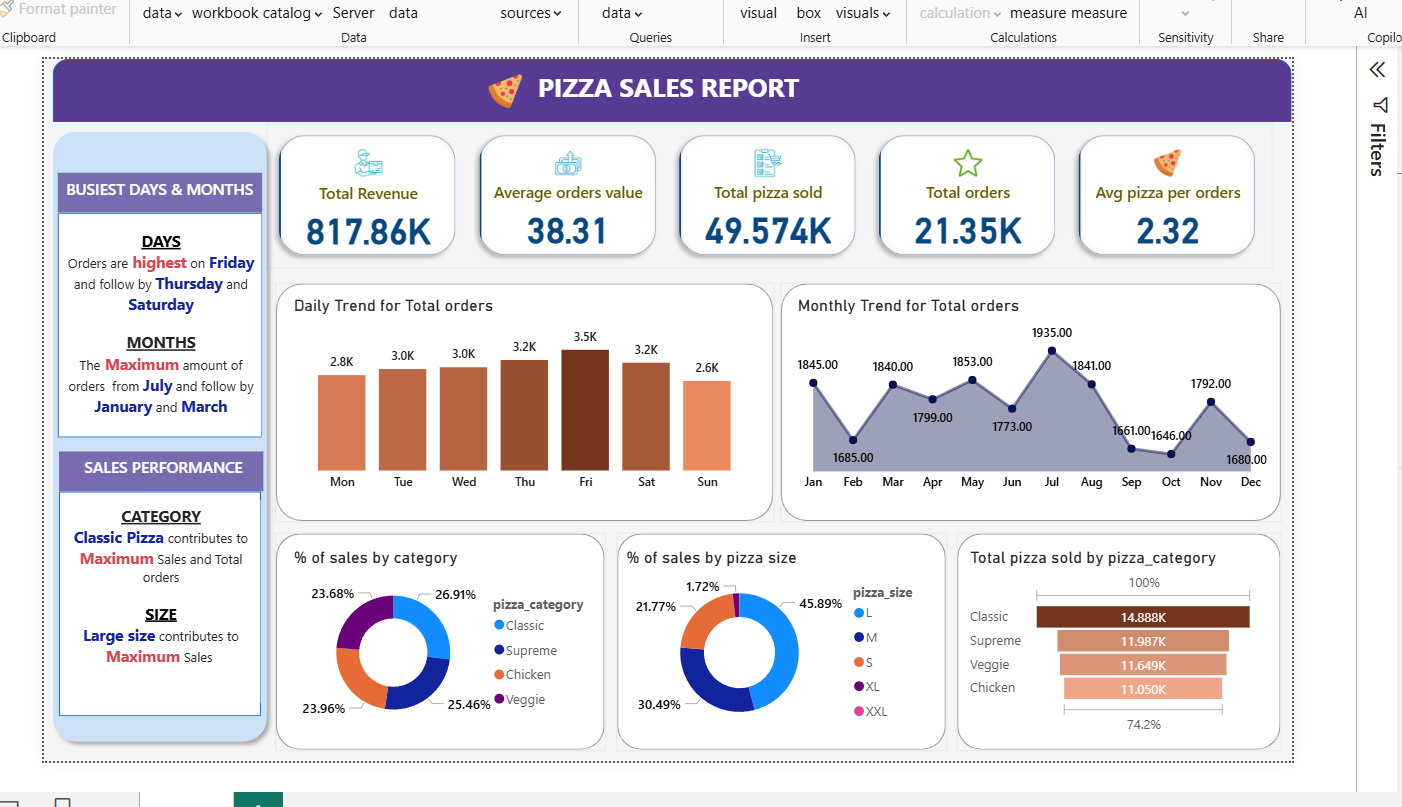

The page's visual inventory and layout, read from the dashboard file:
{"tool":"powerbi","page":{"name":"Home","canvas":[1280,720],"ordinal":0},"visuals":[{"type":"cardVisual","fields":{"Data":["pizza_sales.Total Revenue","pizza_sales.Average orders value","pizza_sales.Total pizza sold","pizza_sales.Total orders","pizza_sales.Avg pizza per orders"]},"box":[250.7,66,1008.8,149.2],"z":0},{"type":"shape","box":[0,0,1270.5,74.6],"z":1000},{"type":"textbox","box":[454.2,5.6,373.6,52.8],"z":2000},{"type":"image","box":[316.7,9.7,312.5,45.8],"z":3000},{"type":"shape","box":[259.2,228.7,490.4,245.8],"z":4000},{"type":"clusteredColumnChart","title":"Daily Trend for Total orders","fields":{"Category":["pizza_sales.Day Order_Date"],"Y":["pizza_sales.Total orders"]},"box":[269,243.3,465.9,209.1],"z":5000},{"type":"shape","box":[754.7,229.2,514.6,245.6],"z":6000},{"type":"areaChart","title":"Monthly Trend for Total orders","fields":{"Y":["pizza_sales.Total orders"],"Category":["pizza_sales.Month_Name"]},"box":[768.4,242.9,491.3,209.9],"z":7000},{"type":"shape","box":[259.2,485.5,330.2,223.8],"z":8000},{"type":"shape","box":[599.2,485.5,326.5,223.8],"z":9000},{"type":"shape","box":[935.9,485.8,333.4,223.7],"z":10000},{"type":"donutChart","title":"% of sales by category","fields":{"Category":["pizza_sales.pizza_category"],"Y":["pizza_sales.Total Revenue"]},"box":[269,501.4,309.4,195.7],"z":11000},{"type":"donutChart","title":"% of sales by pizza size","fields":{"Category":["pizza_sales.pizza_size"],"Y":["pizza_sales.Total Revenue"]},"box":[611.4,501.4,303.3,195.7],"z":12000},{"type":"shape","box":[0,74.6,259.2,634.7],"z":13000},{"type":"funnel","title":"Total pizza sold by Pizza Category","fields":{"Y":["pizza_sales.Total pizza sold"],"Category":["pizza_sales.pizza_category"]},"box":[945.5,500.9,301.9,196.2],"z":14000},{"type":"textbox","box":[13.5,116.2,227.4,41.6],"z":15000},{"type":"shape","box":[13.5,157.7,227.4,231.1],"z":16000},{"type":"textbox","box":[18.3,170,214,207.9],"z":17000},{"type":"textbox","box":[14.7,402.3,226.2,40.4],"z":18000},{"type":"shape","box":[14.7,442.7,226.2,231.1],"z":19000},{"type":"textbox","box":[18.3,452.4,214,209.1],"z":20000},{"type":"pageNavigator","box":[0,0,400,50],"z":21000},{"type":"slicer","fields":{"Values":["pizza_sales.pizza_category"]},"box":[836.4,0,167.5,64.8],"z":22000},{"type":"slicer","fields":{"Values":["pizza_sales.order_date"]},"box":[1012.5,0,234.8,74.6],"z":23000}]}

Visuals, with their boxes on the page's 1280x720 design canvas (x1, y1, x2, y2). These are canvas units, not pixel positions in the 1402x807 screenshot, which may show the page scaled, cropped or inside an application window:
cardVisual - pizza_sales.Total Revenue x pizza_sales.Average orders value: l=251, t=66, r=1260, b=215
shape: l=0, t=0, r=1270, b=75
textbox: l=454, t=6, r=828, b=58
image: l=317, t=10, r=629, b=56
shape: l=259, t=229, r=750, b=474
"Daily Trend for Total orders" clusteredColumnChart: l=269, t=243, r=735, b=452
shape: l=755, t=229, r=1269, b=475
"Monthly Trend for Total orders" areaChart: l=768, t=243, r=1260, b=453
shape: l=259, t=486, r=589, b=709
shape: l=599, t=486, r=926, b=709
shape: l=936, t=486, r=1269, b=710
"% of sales by category" donutChart: l=269, t=501, r=578, b=697
"% of sales by pizza size" donutChart: l=611, t=501, r=915, b=697
shape: l=0, t=75, r=259, b=709
"Total pizza sold by Pizza Category" funnel: l=946, t=501, r=1247, b=697
textbox: l=14, t=116, r=241, b=158
shape: l=14, t=158, r=241, b=389
textbox: l=18, t=170, r=232, b=378
textbox: l=15, t=402, r=241, b=443
shape: l=15, t=443, r=241, b=674
textbox: l=18, t=452, r=232, b=662
pageNavigator: l=0, t=0, r=400, b=50
slicer - pizza_sales.pizza_category: l=836, t=0, r=1004, b=65
slicer - pizza_sales.order_date: l=1012, t=0, r=1247, b=75
